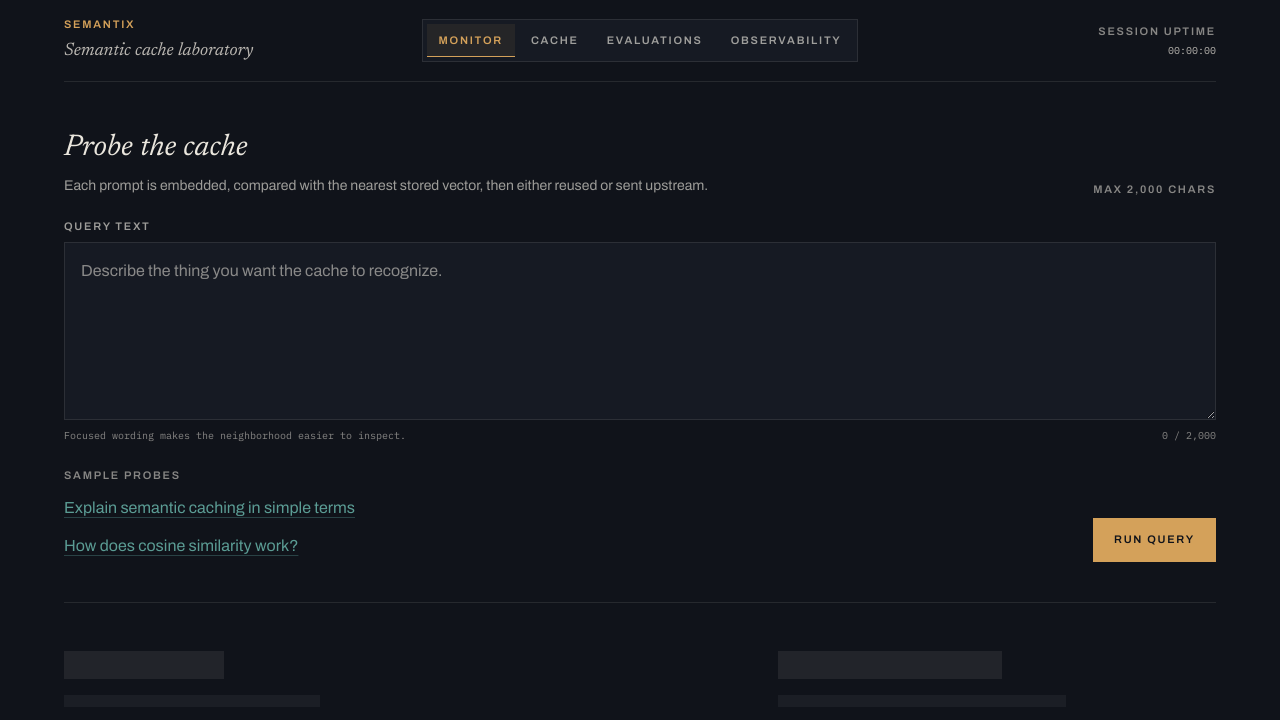
Test: application routing › does not load evaluation data until its route mounts
Click the link "Evaluations" at (655, 40), box [607,34,703,46]
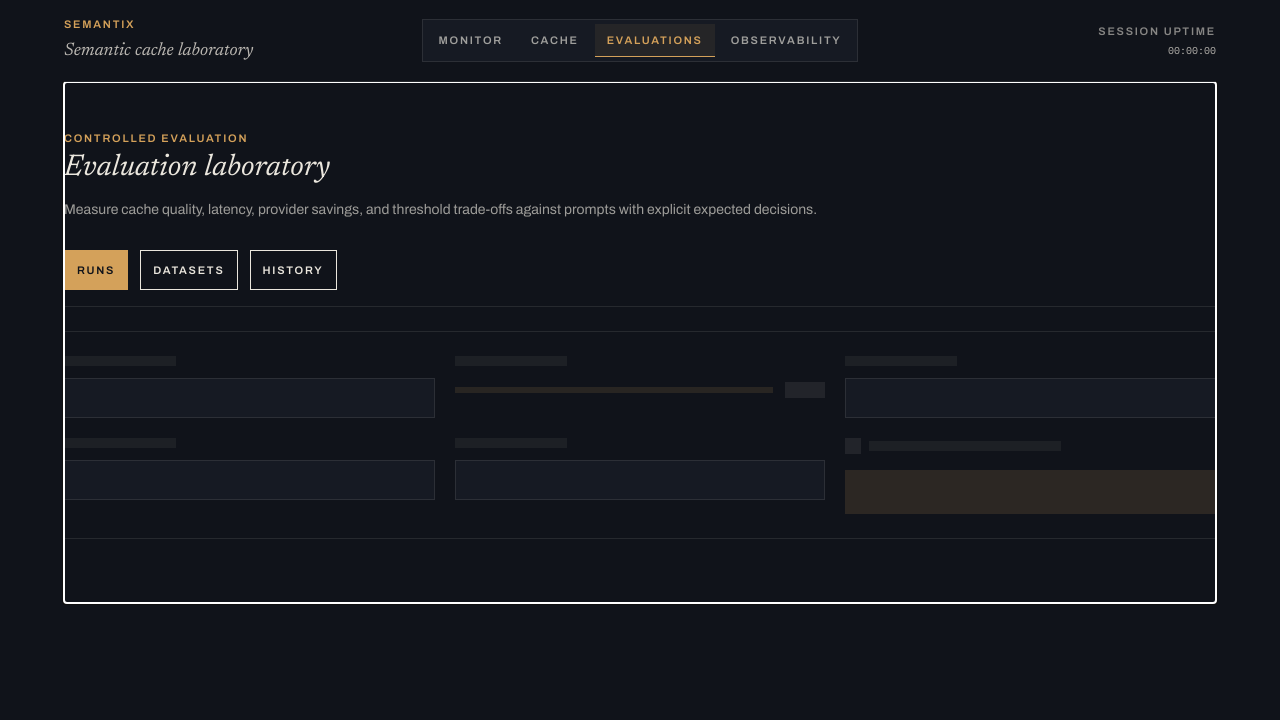
Check: the heading "Evaluation laboratory" is shown, box [64,153,330,183]
